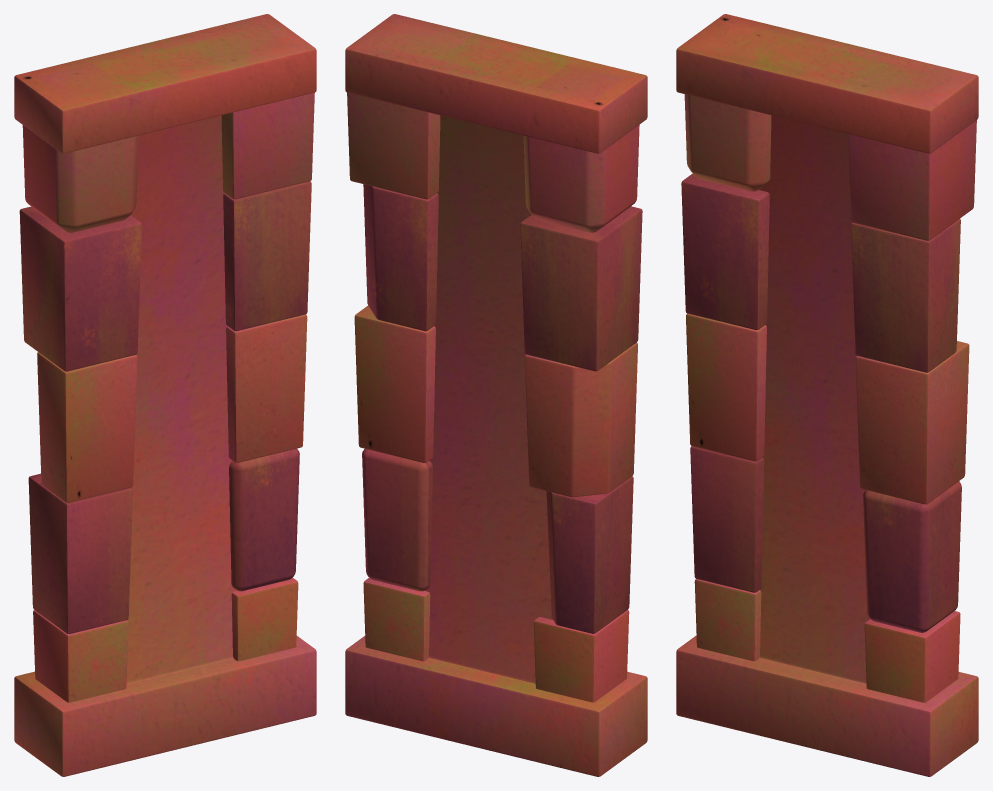
File: TEMPLE_WALL_1_003.obj
The picture shows the model from 3 angles, left to right: view 1: azimuth 30°, elevation 25°; view 2: azimuth 150°, elevation 25°; view 3: azimuth 330°, elevation 25°; orthographic projection.
Visible parts, largest first — view 1: TEMPLE_WALL_1_003; view 2: TEMPLE_WALL_1_003; view 3: TEMPLE_WALL_1_003.
Part boxes in pixels (x1=…): TEMPLE_WALL_1_003: x1=14, y1=14, x2=316, y2=776; TEMPLE_WALL_1_003: x1=345, y1=14, x2=647, y2=776; TEMPLE_WALL_1_003: x1=676, y1=14, x2=978, y2=776.
Size of the model in its own units: 1.2 by 3 by 0.4.
